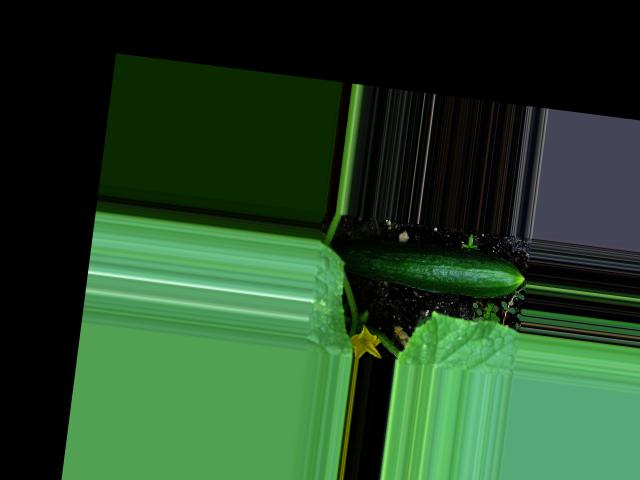cucumber: (332, 232, 528, 303)
